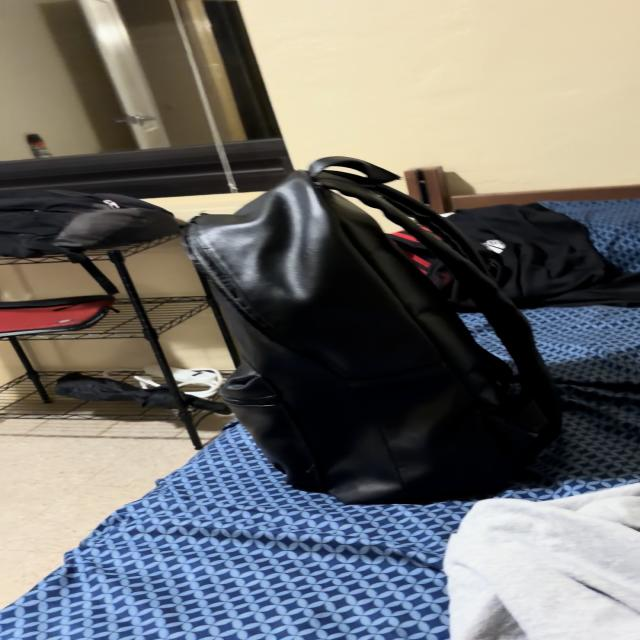backpack: (186, 157, 560, 503), (0, 188, 180, 294)
